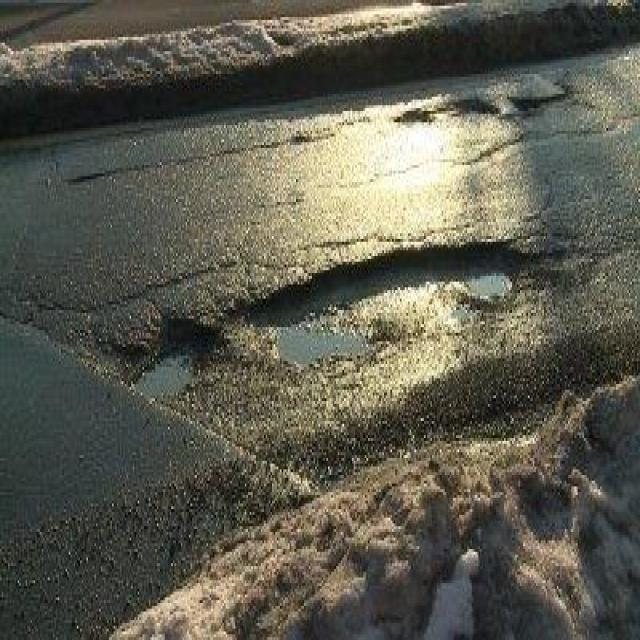jalan retak: (62, 131, 318, 188), (114, 226, 261, 296), (2, 256, 129, 336), (456, 125, 540, 172), (516, 167, 564, 226)
lubang: (226, 222, 549, 382), (122, 293, 230, 430), (504, 80, 574, 125), (392, 92, 445, 143), (448, 83, 503, 124)
